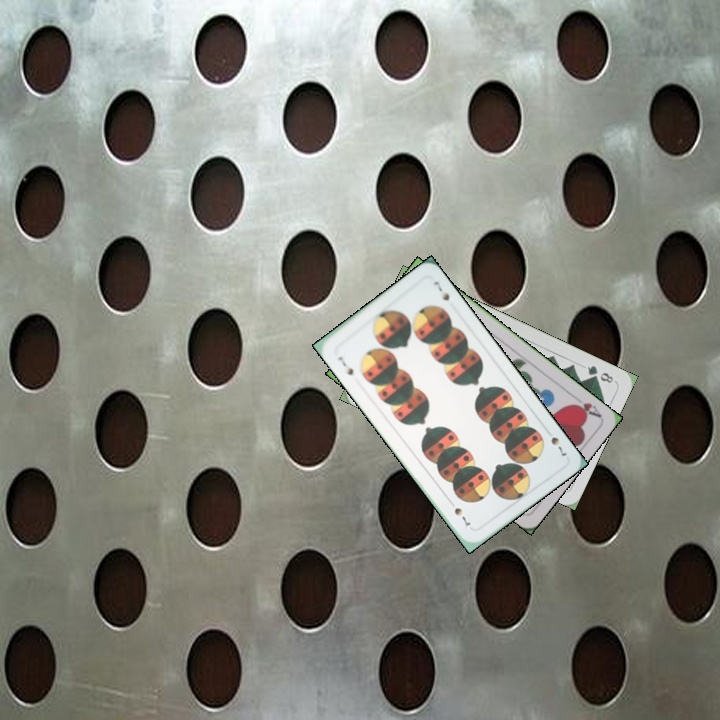G8: (583, 361, 616, 386)
HA: (567, 398, 603, 420)
S7: (541, 424, 569, 459), (334, 353, 356, 378)
